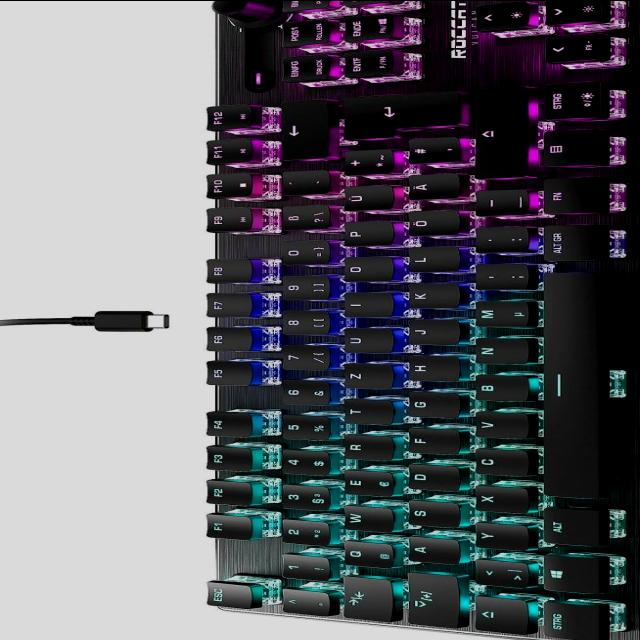0: (275, 240, 328, 266)
1: (276, 554, 328, 582)
2: (276, 520, 329, 547)
3: (277, 484, 329, 512)
4: (277, 450, 330, 477)
5: (277, 414, 329, 442)
6: (276, 379, 330, 407)
7: (277, 346, 329, 372)
8: (276, 310, 330, 336)
9: (276, 275, 328, 301)
a: (402, 537, 457, 566)
accent: (275, 171, 327, 197)
ae: (402, 174, 457, 200)
alt-left: (537, 507, 601, 548)
altgr-right: (537, 224, 601, 263)
b: (469, 375, 527, 403)
c: (470, 449, 528, 478)
caret: (277, 589, 328, 617)
comma: (468, 264, 528, 292)
d: (402, 465, 459, 493)
del: (276, 101, 326, 161)
e: (338, 470, 393, 498)
enter: (335, 91, 459, 142)
f: (402, 428, 458, 456)
g: (403, 393, 458, 420)
h: (403, 356, 458, 383)
hash: (401, 138, 457, 165)
i: (338, 293, 391, 319)
j: (403, 319, 458, 347)
k: (402, 283, 458, 309)
keyboard: (191, 0, 640, 640)
l: (403, 247, 457, 273)
less: (468, 560, 528, 590)
m: (469, 301, 531, 329)
minus: (468, 190, 524, 217)
n: (469, 338, 527, 366)
o: (338, 257, 391, 284)
oe: (402, 211, 458, 237)
p: (338, 221, 391, 247)
plus: (337, 150, 391, 177)
point: (469, 227, 527, 253)
q: (338, 542, 393, 570)
r: (338, 435, 392, 462)
s: (402, 501, 458, 529)
shift-left: (468, 596, 528, 637)
shift-lock: (402, 572, 457, 630)
shift-right: (468, 87, 526, 181)
space: (539, 269, 603, 503)
ss: (276, 206, 329, 232)
strg-left: (540, 600, 604, 640)
strg-right: (536, 80, 604, 122)
t: (339, 400, 391, 426)
tab: (338, 576, 391, 623)
u: (338, 328, 392, 355)
ue: (337, 185, 391, 211)
v: (469, 412, 527, 440)
w: (339, 506, 393, 534)
x: (470, 486, 527, 514)
y: (470, 524, 528, 552)
z: (338, 364, 391, 390)
